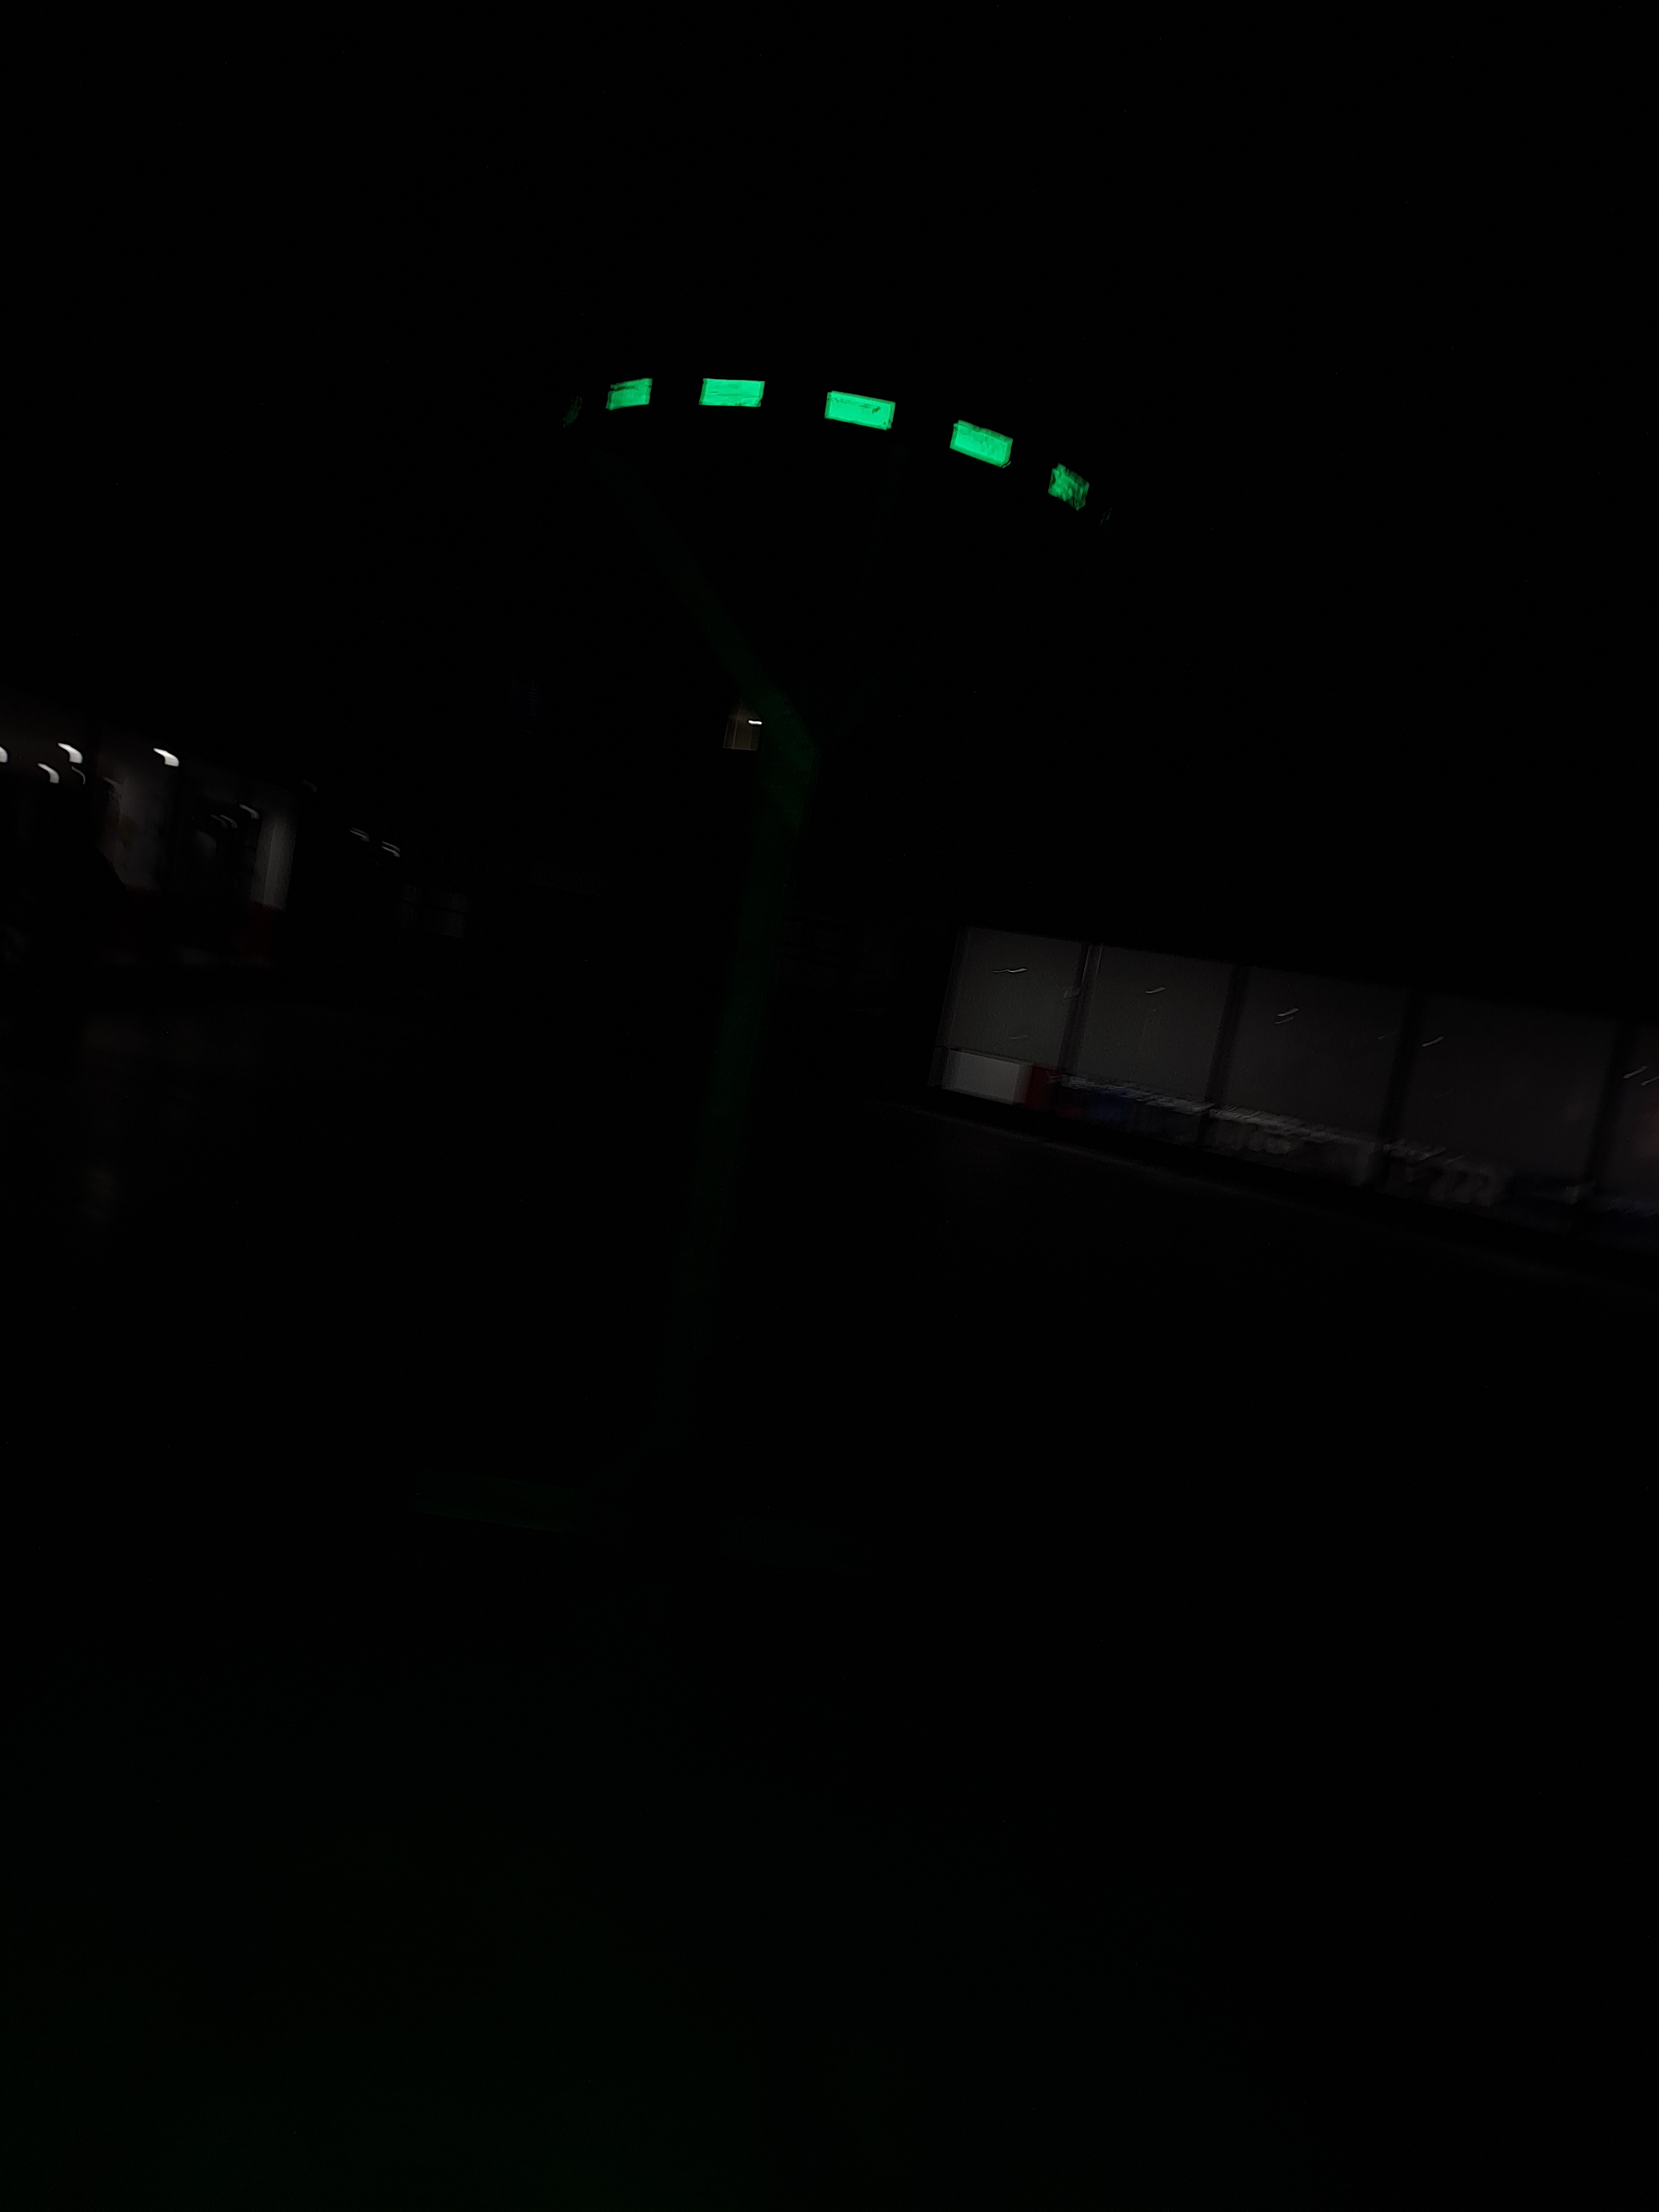hoop: (596, 361, 1096, 526)
